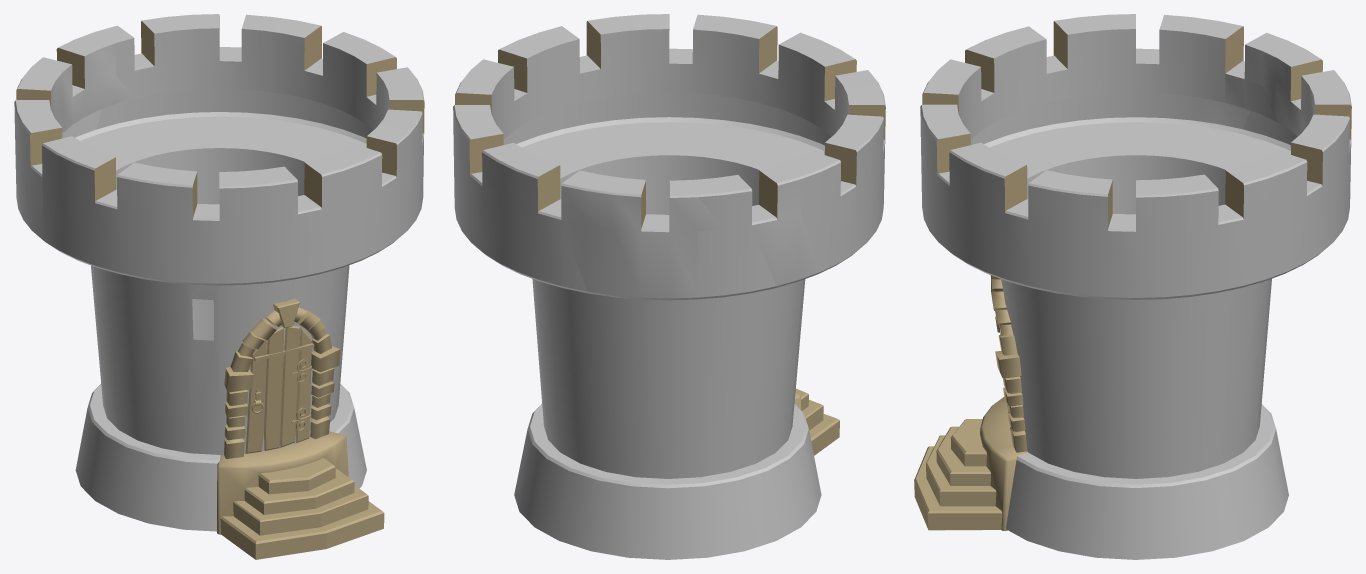
The model's file is lau dai xi mang.fbx.
The picture shows the model from 3 angles, left to right: view 1: azimuth 30°, elevation 25°; view 2: azimuth 150°, elevation 25°; view 3: azimuth 270°, elevation 25°; orthographic projection. The views are drawn at different scales.
Visible parts, largest first — view 1: Line004.001; view 2: Line004.001; view 3: Line004.001.
Part boxes in pixels (x1,y1,x2,y2): Line004.001: (14,14,424,559); Line004.001: (453,14,885,559); Line004.001: (914,14,1351,559).
Size of the model in its own units: 771 by 772 by 782.
